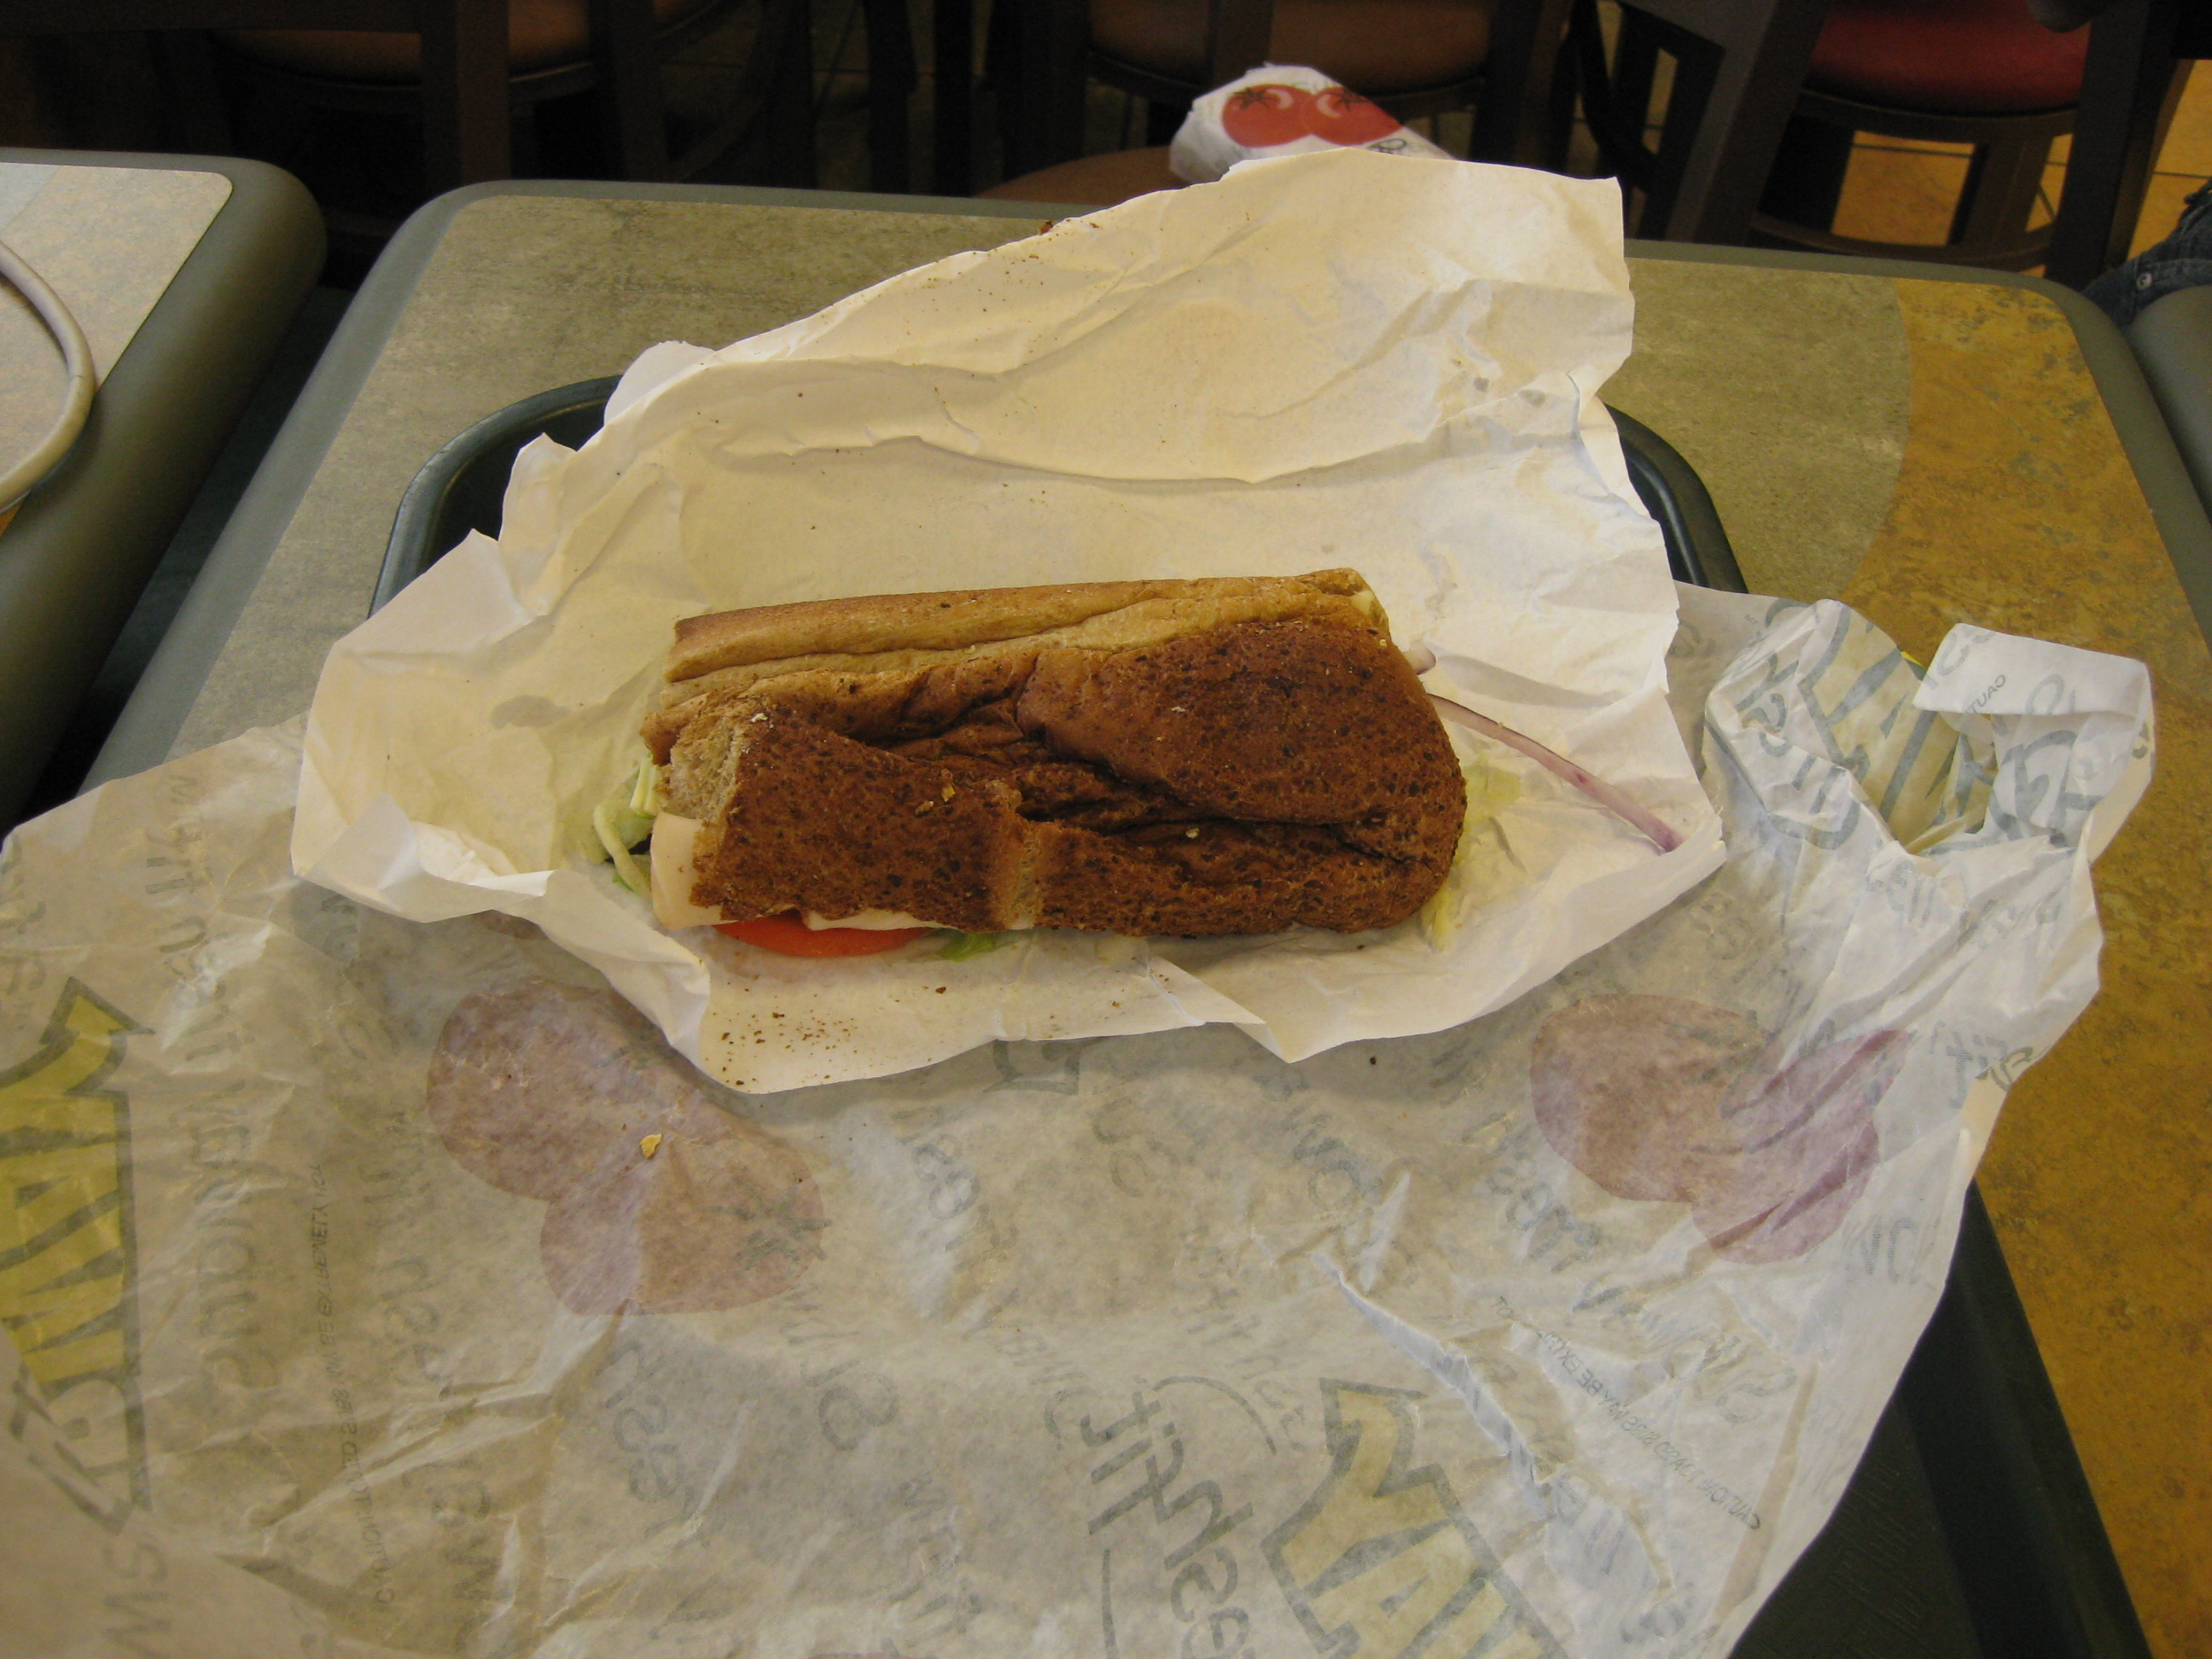sub: (595, 563, 1509, 980)
